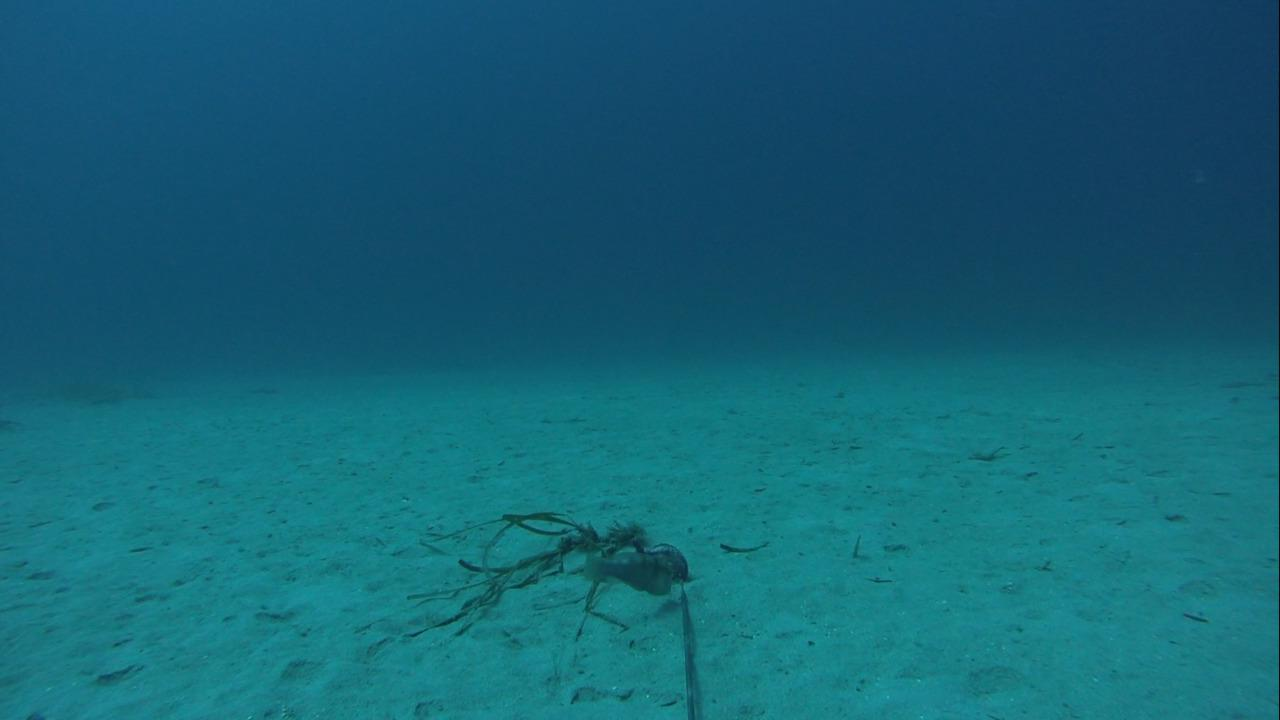raor: (568, 550, 678, 601)
